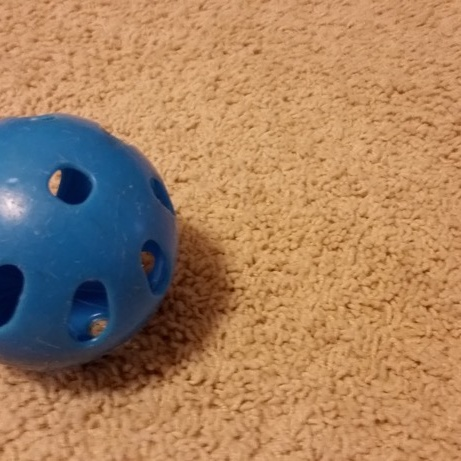ball: (0, 109, 184, 379)
